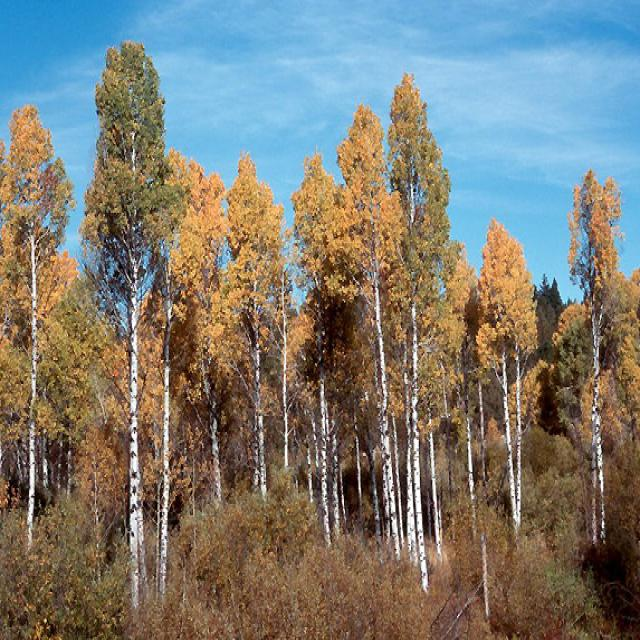Populus tremuloides: (84, 24, 186, 619), (0, 72, 81, 590), (324, 102, 408, 561), (552, 126, 637, 552), (388, 74, 461, 569), (474, 185, 551, 565), (218, 150, 293, 520)
